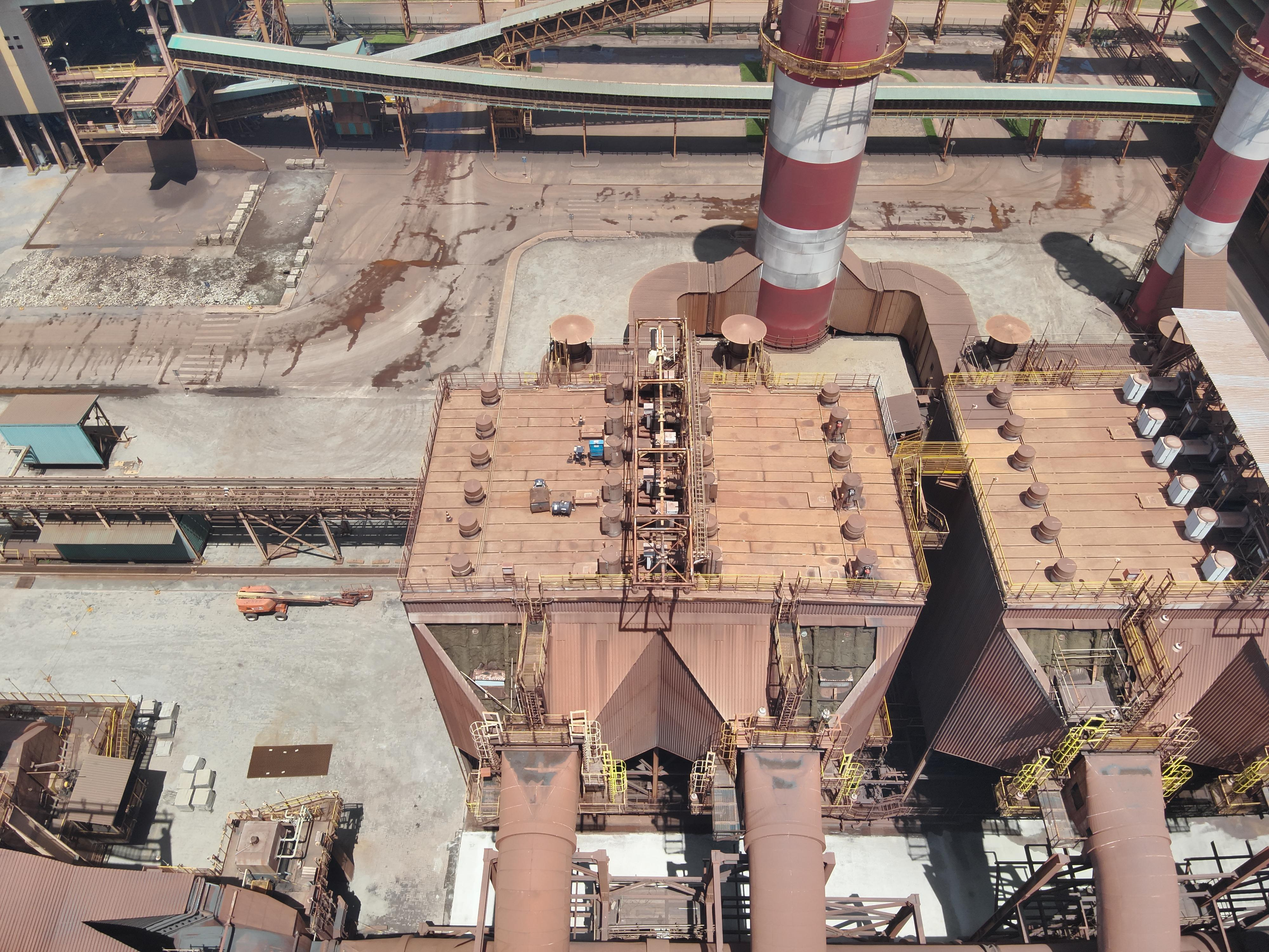Failures: (424, 620, 527, 721), (799, 621, 880, 723), (1016, 624, 1115, 686)
